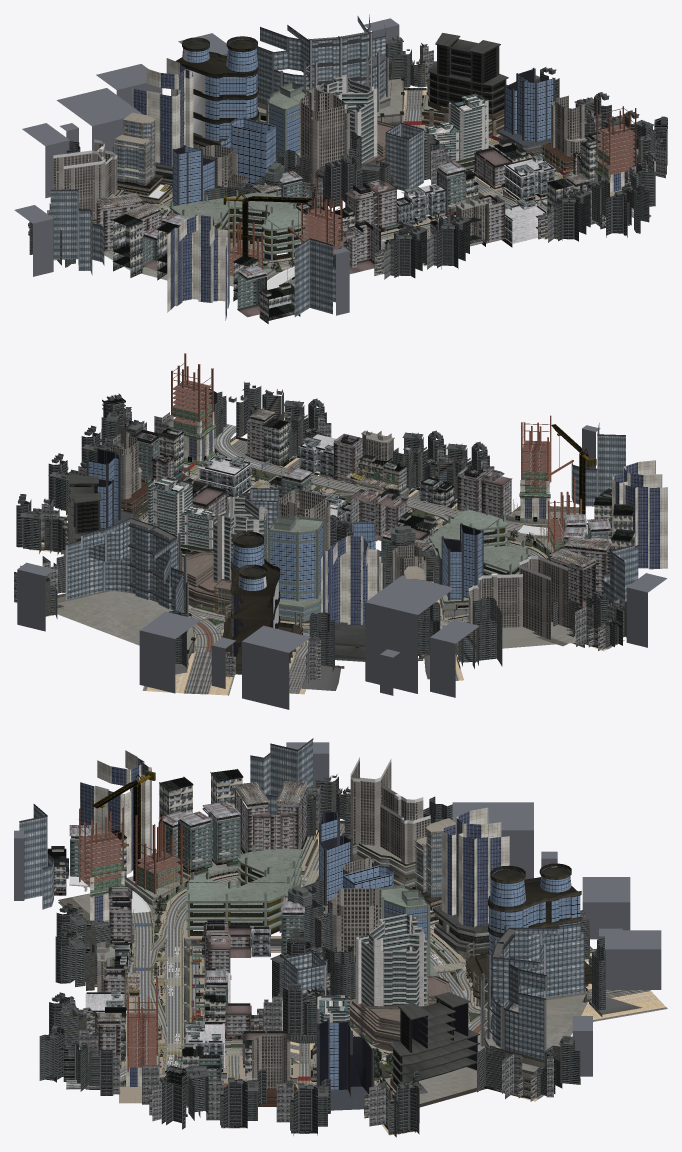
File: city.glb
The picture shows the model from 3 angles, top to bottom: view 1: azimuth 30°, elevation 25°; view 2: azimuth 150°, elevation 25°; view 3: azimuth 270°, elevation 25°; orthographic projection. The views are drawn at different scales.
Visible parts, largest first — view 1: backdrop_grp_001_mdl_001_sub_000_material_081_0, landmarks, unit_000_sub_037_material_037_0, unit_015_sub_021_material_037_0, unit_011_sub_022_material_060_0, unit_001_sub_039_material_045_0, unit_011_sub_024_material_066_0, unit_003_sub_029_material_049_0, unit_000_sub_035_material_035_0, unit_019_sub_021_material_045_0, unit_020_sub_027_material_054_0, unit_003_sub_028_material_034_0 (+36 smaller); view 2: landmarks, backdrop_grp_001_mdl_001_sub_000_material_081_0, backdrop_grp_001_mdl_004_sub_000_material_081_0, unit_015_sub_021_material_037_0, unit_020_sub_027_material_054_0, unit_011_sub_022_material_060_0, unit_003_sub_028_material_034_0, unit_001_sub_039_material_045_0, unit_019_sub_021_material_045_0, unit_011_sub_001_material_003_0, unit_000_sub_034_material_034_0, unit_003_sub_029_material_049_0 (+41 smaller); view 3: backdrop_grp_001_mdl_001_sub_000_material_081_0, landmarks, unit_015_sub_021_material_037_0, unit_014_sub_023_material_070_0, unit_019_sub_021_material_045_0, unit_000_sub_005_material_005_0, backdrop_grp_001_mdl_002_sub_000_material_081_0, backdrop_grp_001_mdl_004_sub_000_material_081_0, unit_011_sub_024_material_066_0, unit_000_sub_034_material_034_0, unit_020_sub_027_material_054_0, unit_000_sub_037_material_037_0 (+48 smaller).
Boxes of the visible parts, left/top/right/bottom form: backdrop_grp_001_mdl_001_sub_000_material_081_0: left=204, top=69, right=667, bottom=279; landmarks: left=14, top=18, right=399, bottom=315; unit_000_sub_037_material_037_0: left=50, top=191, right=335, bottom=316; unit_015_sub_021_material_037_0: left=256, top=16, right=385, bottom=102; unit_011_sub_022_material_060_0: left=182, top=39, right=533, bottom=165; unit_001_sub_039_material_045_0: left=167, top=215, right=343, bottom=320; unit_011_sub_024_material_066_0: left=428, top=33, right=508, bottom=114; unit_003_sub_029_material_049_0: left=397, top=154, right=556, bottom=243; unit_000_sub_035_material_035_0: left=112, top=207, right=391, bottom=320; unit_019_sub_021_material_045_0: left=132, top=58, right=193, bottom=166; unit_020_sub_027_material_054_0: left=53, top=142, right=247, bottom=219; unit_003_sub_028_material_034_0: left=344, top=149, right=591, bottom=243; landmarks: left=17, top=425, right=666, bottom=709; backdrop_grp_001_mdl_001_sub_000_material_081_0: left=20, top=381, right=494, bottom=605; backdrop_grp_001_mdl_004_sub_000_material_081_0: left=142, top=590, right=626, bottom=695; unit_015_sub_021_material_037_0: left=65, top=521, right=184, bottom=612; unit_020_sub_027_material_054_0: left=392, top=545, right=568, bottom=640; unit_011_sub_022_material_060_0: left=88, top=458, right=322, bottom=656; unit_003_sub_028_material_034_0: left=141, top=415, right=451, bottom=541; unit_001_sub_039_material_045_0: left=520, top=460, right=667, bottom=569; unit_019_sub_021_material_045_0: left=321, top=536, right=383, bottom=624; unit_011_sub_001_material_003_0: left=57, top=547, right=231, bottom=659; unit_000_sub_034_material_034_0: left=415, top=466, right=611, bottom=609; unit_003_sub_029_material_049_0: left=198, top=434, right=442, bottom=522; backdrop_grp_001_mdl_001_sub_000_material_081_0: left=39, top=872, right=401, bottom=1137; landmarks: left=14, top=742, right=661, bottom=1076; unit_015_sub_021_material_037_0: left=492, top=924, right=584, bottom=1059; unit_014_sub_023_material_070_0: left=355, top=914, right=427, bottom=1006; unit_019_sub_021_material_045_0: left=441, top=807, right=509, bottom=927; unit_000_sub_005_material_005_0: left=186, top=843, right=302, bottom=937; backdrop_grp_001_mdl_002_sub_000_material_081_0: left=364, top=1036, right=580, bottom=1135; backdrop_grp_001_mdl_004_sub_000_material_081_0: left=298, top=774, right=667, bottom=1021; unit_011_sub_024_material_066_0: left=390, top=992, right=479, bottom=1085; unit_000_sub_034_material_034_0: left=69, top=787, right=307, bottom=957; unit_020_sub_027_material_054_0: left=328, top=760, right=430, bottom=913; unit_000_sub_037_material_037_0: left=19, top=740, right=312, bottom=909.
Size of the model in its own units: 828 by 161 by 697.
100 materials, 98 textured.
